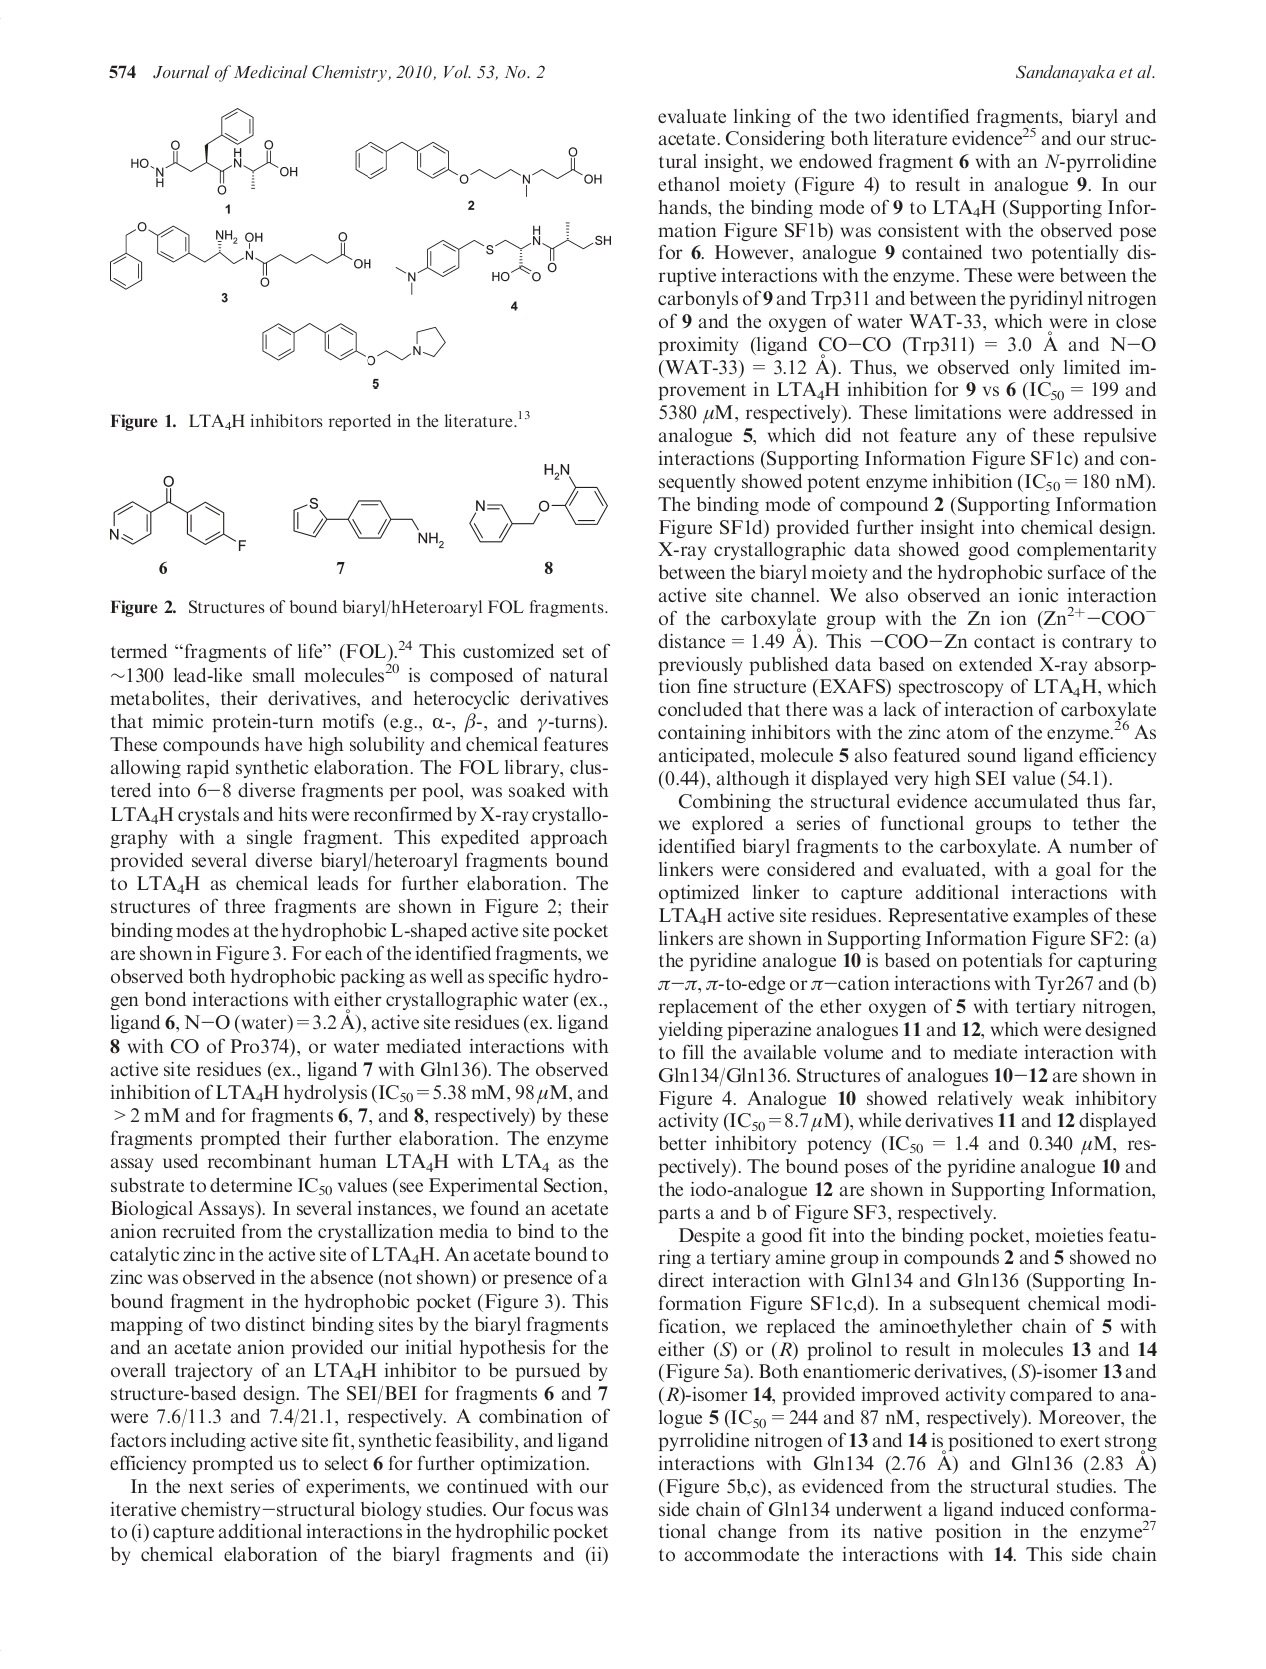exist_molecular: (109, 221, 372, 289), (394, 217, 614, 297), (129, 105, 302, 195), (352, 140, 604, 199), (468, 460, 610, 547), (106, 473, 247, 555), (261, 321, 447, 367), (291, 496, 445, 551)
